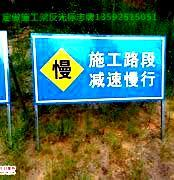sign: (33, 33, 164, 100)
